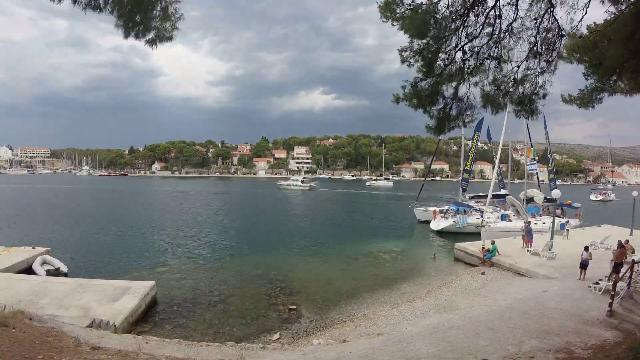Sailboat: (364, 176, 396, 190)
ferry: (270, 168, 322, 194)
